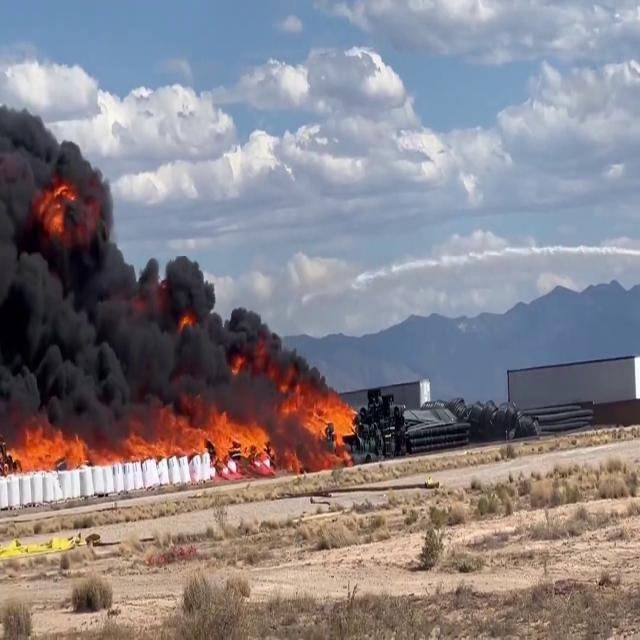Fire: (0, 394, 278, 470), (268, 386, 358, 466)
Smoke: (0, 72, 342, 450), (0, 70, 248, 436)
